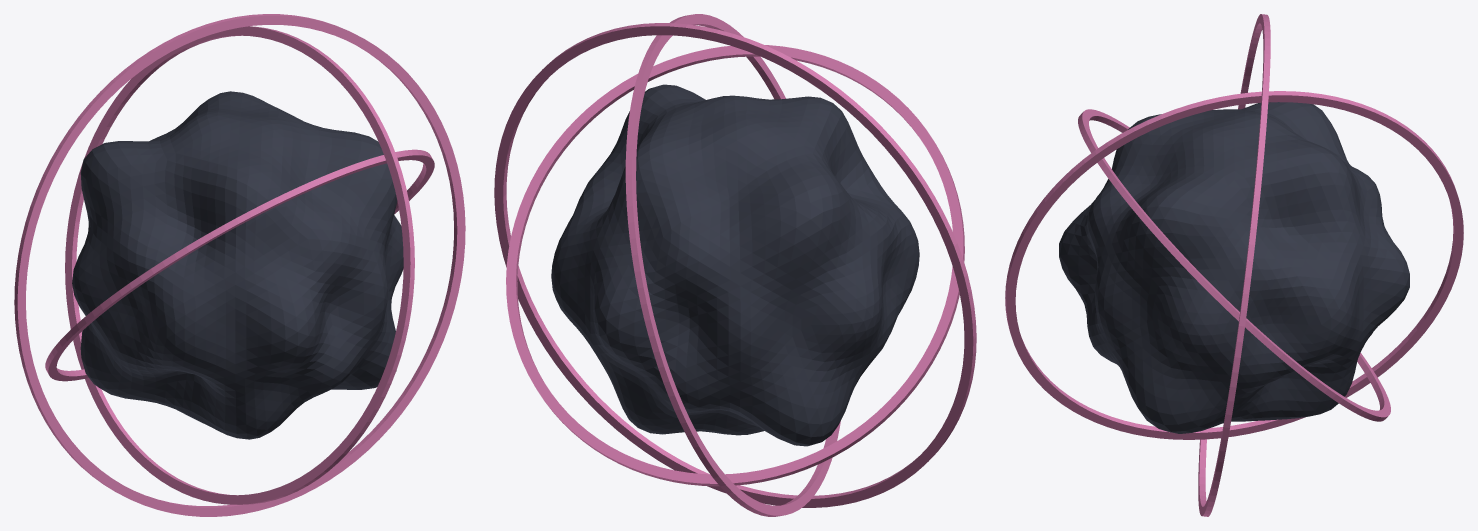
The model's file is gpu-artifact.glb.
The picture shows the model from 3 angles, left to right: view 1: azimuth 30°, elevation 25°; view 2: azimuth 150°, elevation 25°; view 3: azimuth 270°, elevation 25°; orthographic projection. The views are drawn at different scales.
Parts seen in each view (by area): view 1: vector-search-engine_obsidian_core, vector-search-engine_orbital_ring_2, vector-search-engine_orbital_ring_1, vector-search-engine_orbital_ring_0; view 2: vector-search-engine_obsidian_core, vector-search-engine_orbital_ring_2, vector-search-engine_orbital_ring_0, vector-search-engine_orbital_ring_1; view 3: vector-search-engine_obsidian_core, vector-search-engine_orbital_ring_1, vector-search-engine_orbital_ring_2, vector-search-engine_orbital_ring_0.
Part boxes in pixels (box(x1,y1,x2,y2)): vector-search-engine_obsidian_core: box(72, 91, 403, 439); vector-search-engine_orbital_ring_2: box(14, 14, 465, 516); vector-search-engine_orbital_ring_1: box(65, 26, 414, 504); vector-search-engine_orbital_ring_0: box(45, 149, 434, 381); vector-search-engine_obsidian_core: box(551, 84, 919, 446); vector-search-engine_orbital_ring_2: box(494, 23, 976, 507); vector-search-engine_orbital_ring_0: box(506, 45, 964, 486); vector-search-engine_orbital_ring_1: box(625, 14, 840, 516); vector-search-engine_obsidian_core: box(1059, 102, 1409, 433); vector-search-engine_orbital_ring_1: box(1005, 91, 1463, 439); vector-search-engine_orbital_ring_2: box(1198, 14, 1270, 516); vector-search-engine_orbital_ring_0: box(1078, 109, 1390, 421).
Bounding box in the file's own units: 3.24 × 3.22 × 2.94.
